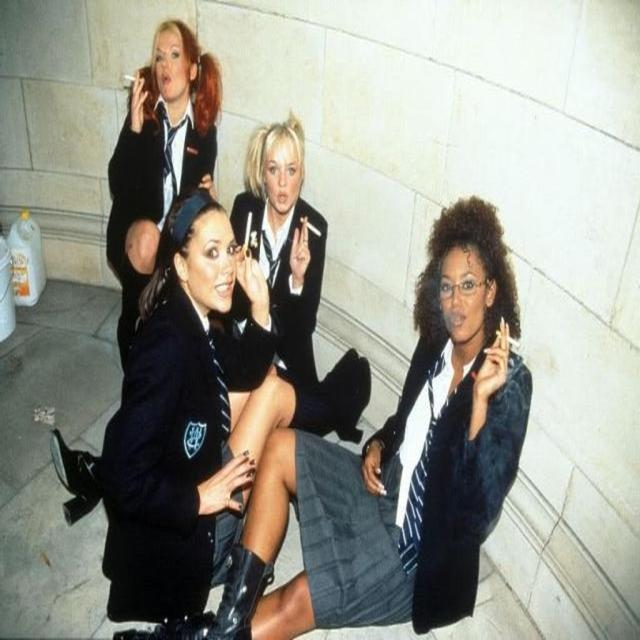smoking: (420, 195, 534, 389), (167, 203, 262, 331), (266, 121, 348, 261), (120, 20, 208, 141)
